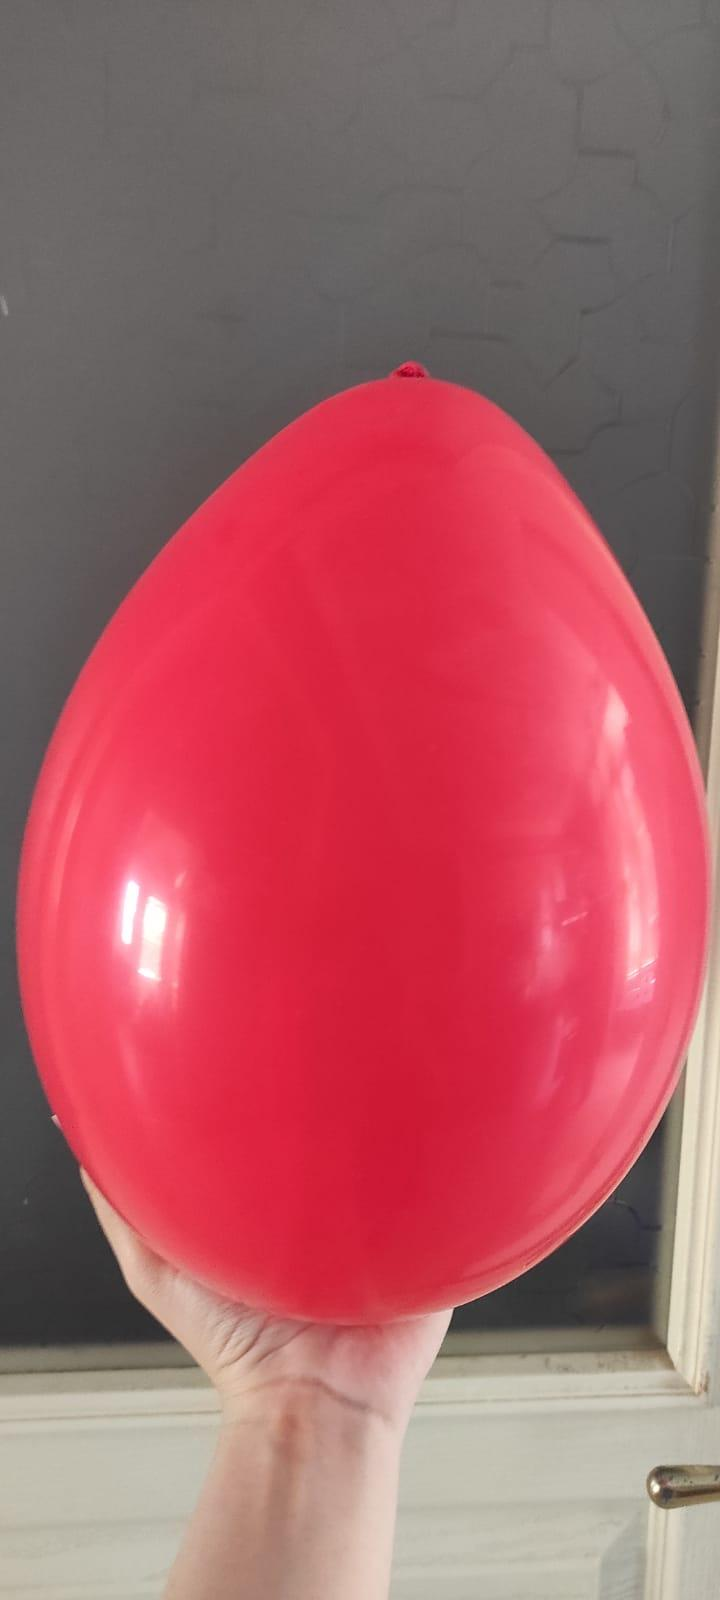red: (14, 351, 720, 1329)
